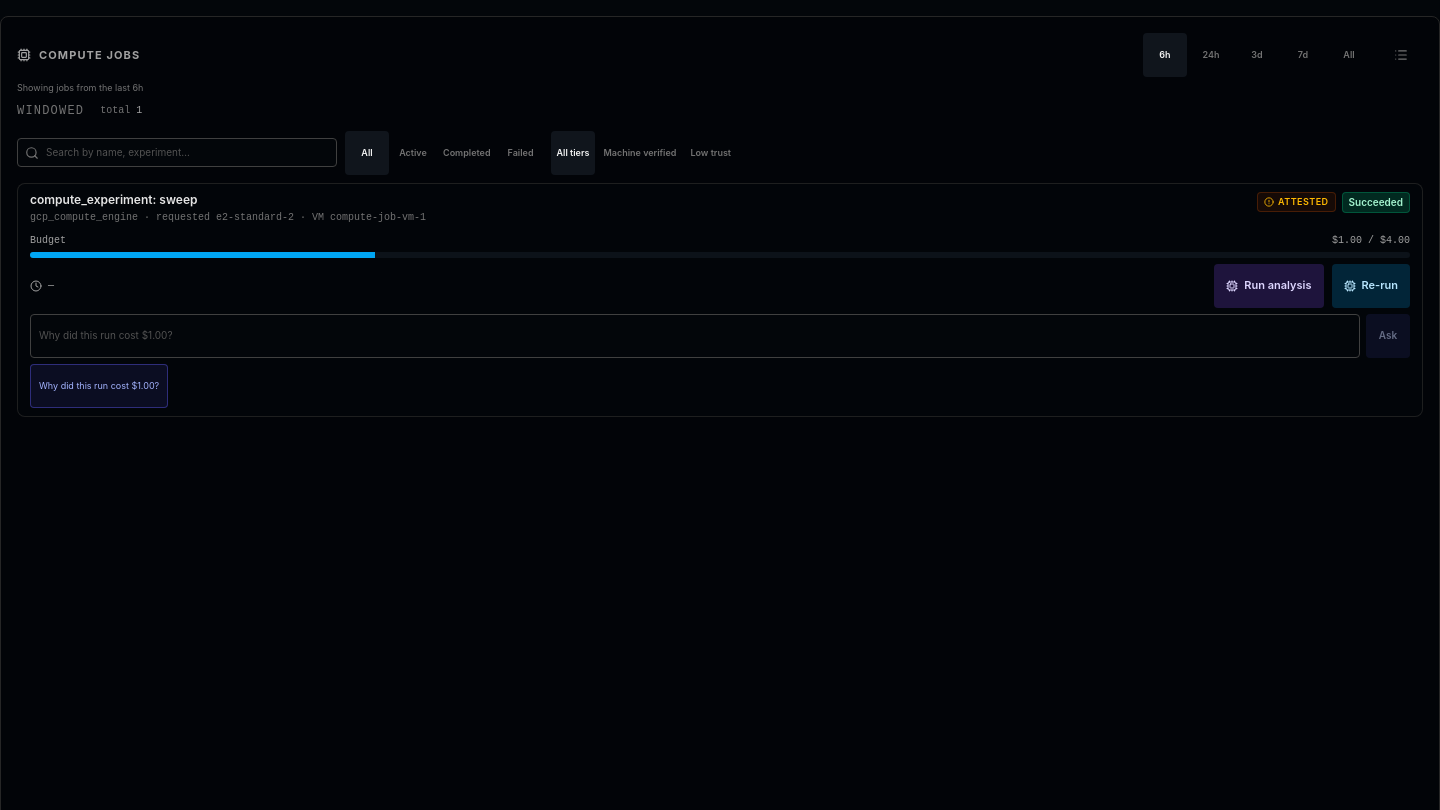
it: ComputeJobsPanel render + kill › analysis doc card is interactive: clicking the title toggles the full body
Step 1. Click the button "Run analysis" → (1269,286), box 1214,264 -> 1324,308
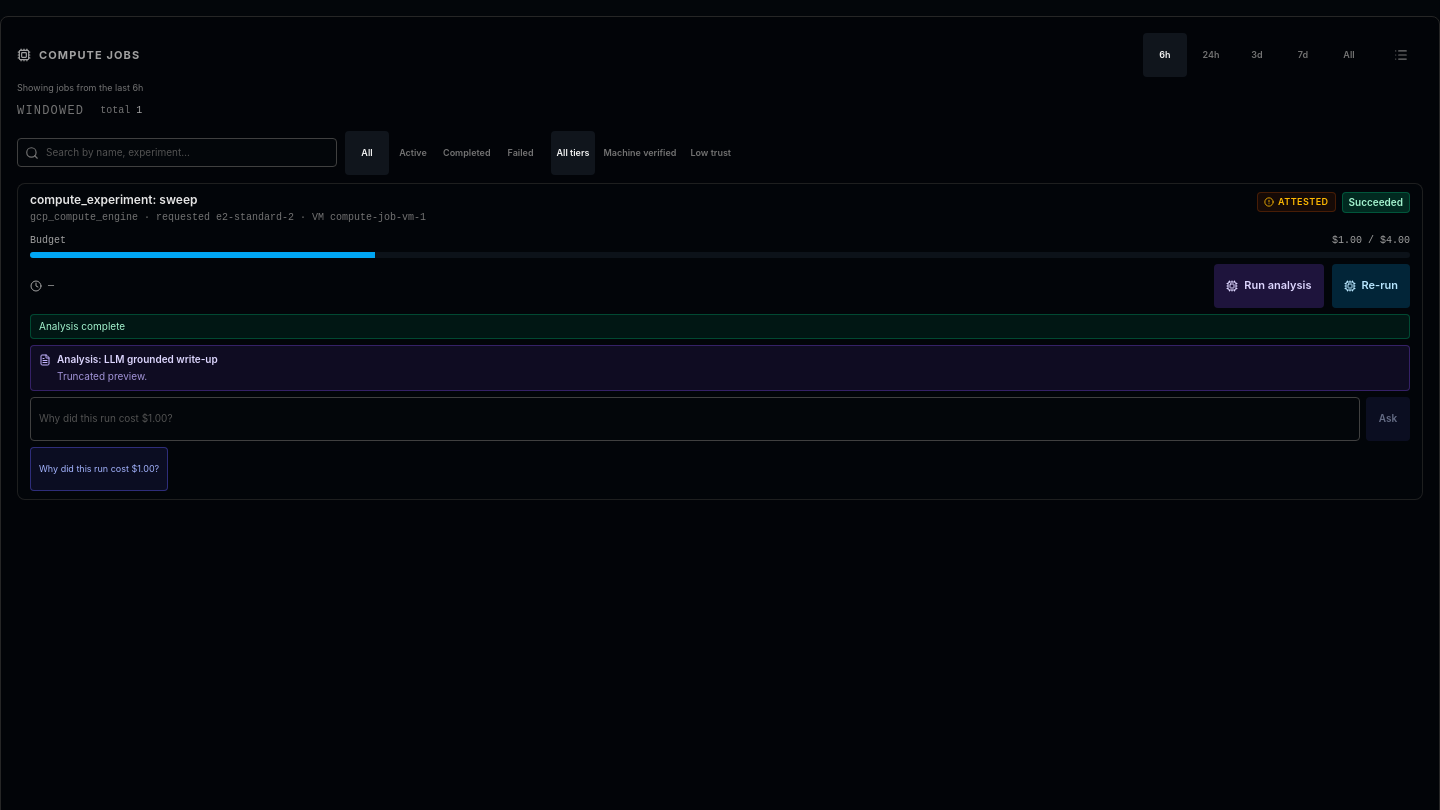
Result: the element with test id "compute-analysis-doc" is shown at 30,344 -> 1410,390
Note: Click to expand
Step 2. Click the button with test id "compute-analysis-doc-toggle" → (137,358), box 57,352 -> 1401,366
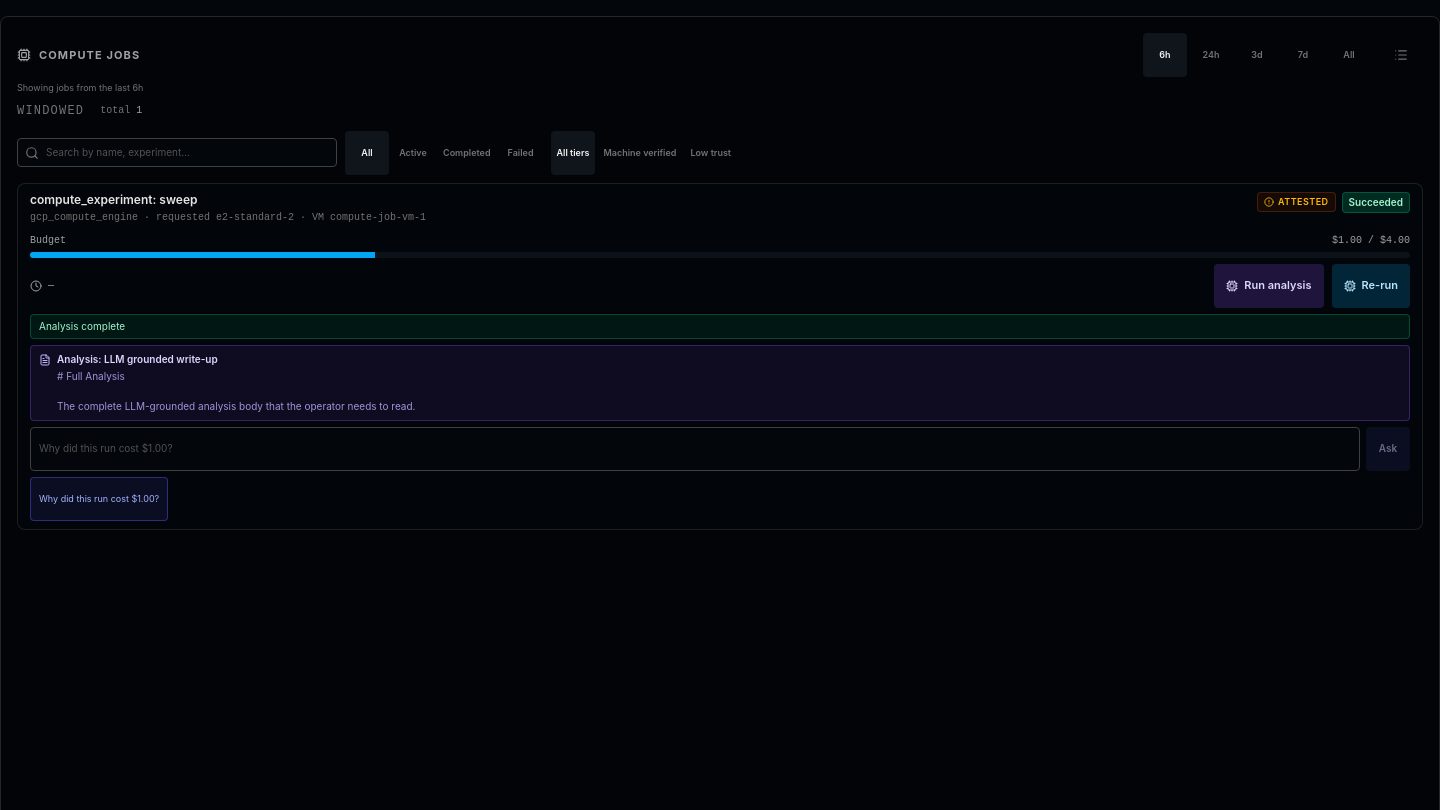
Result: the text with test id "compute-analysis-doc-body" shows "The complete LLM-grounded analysis body" at 57,370 -> 416,412
